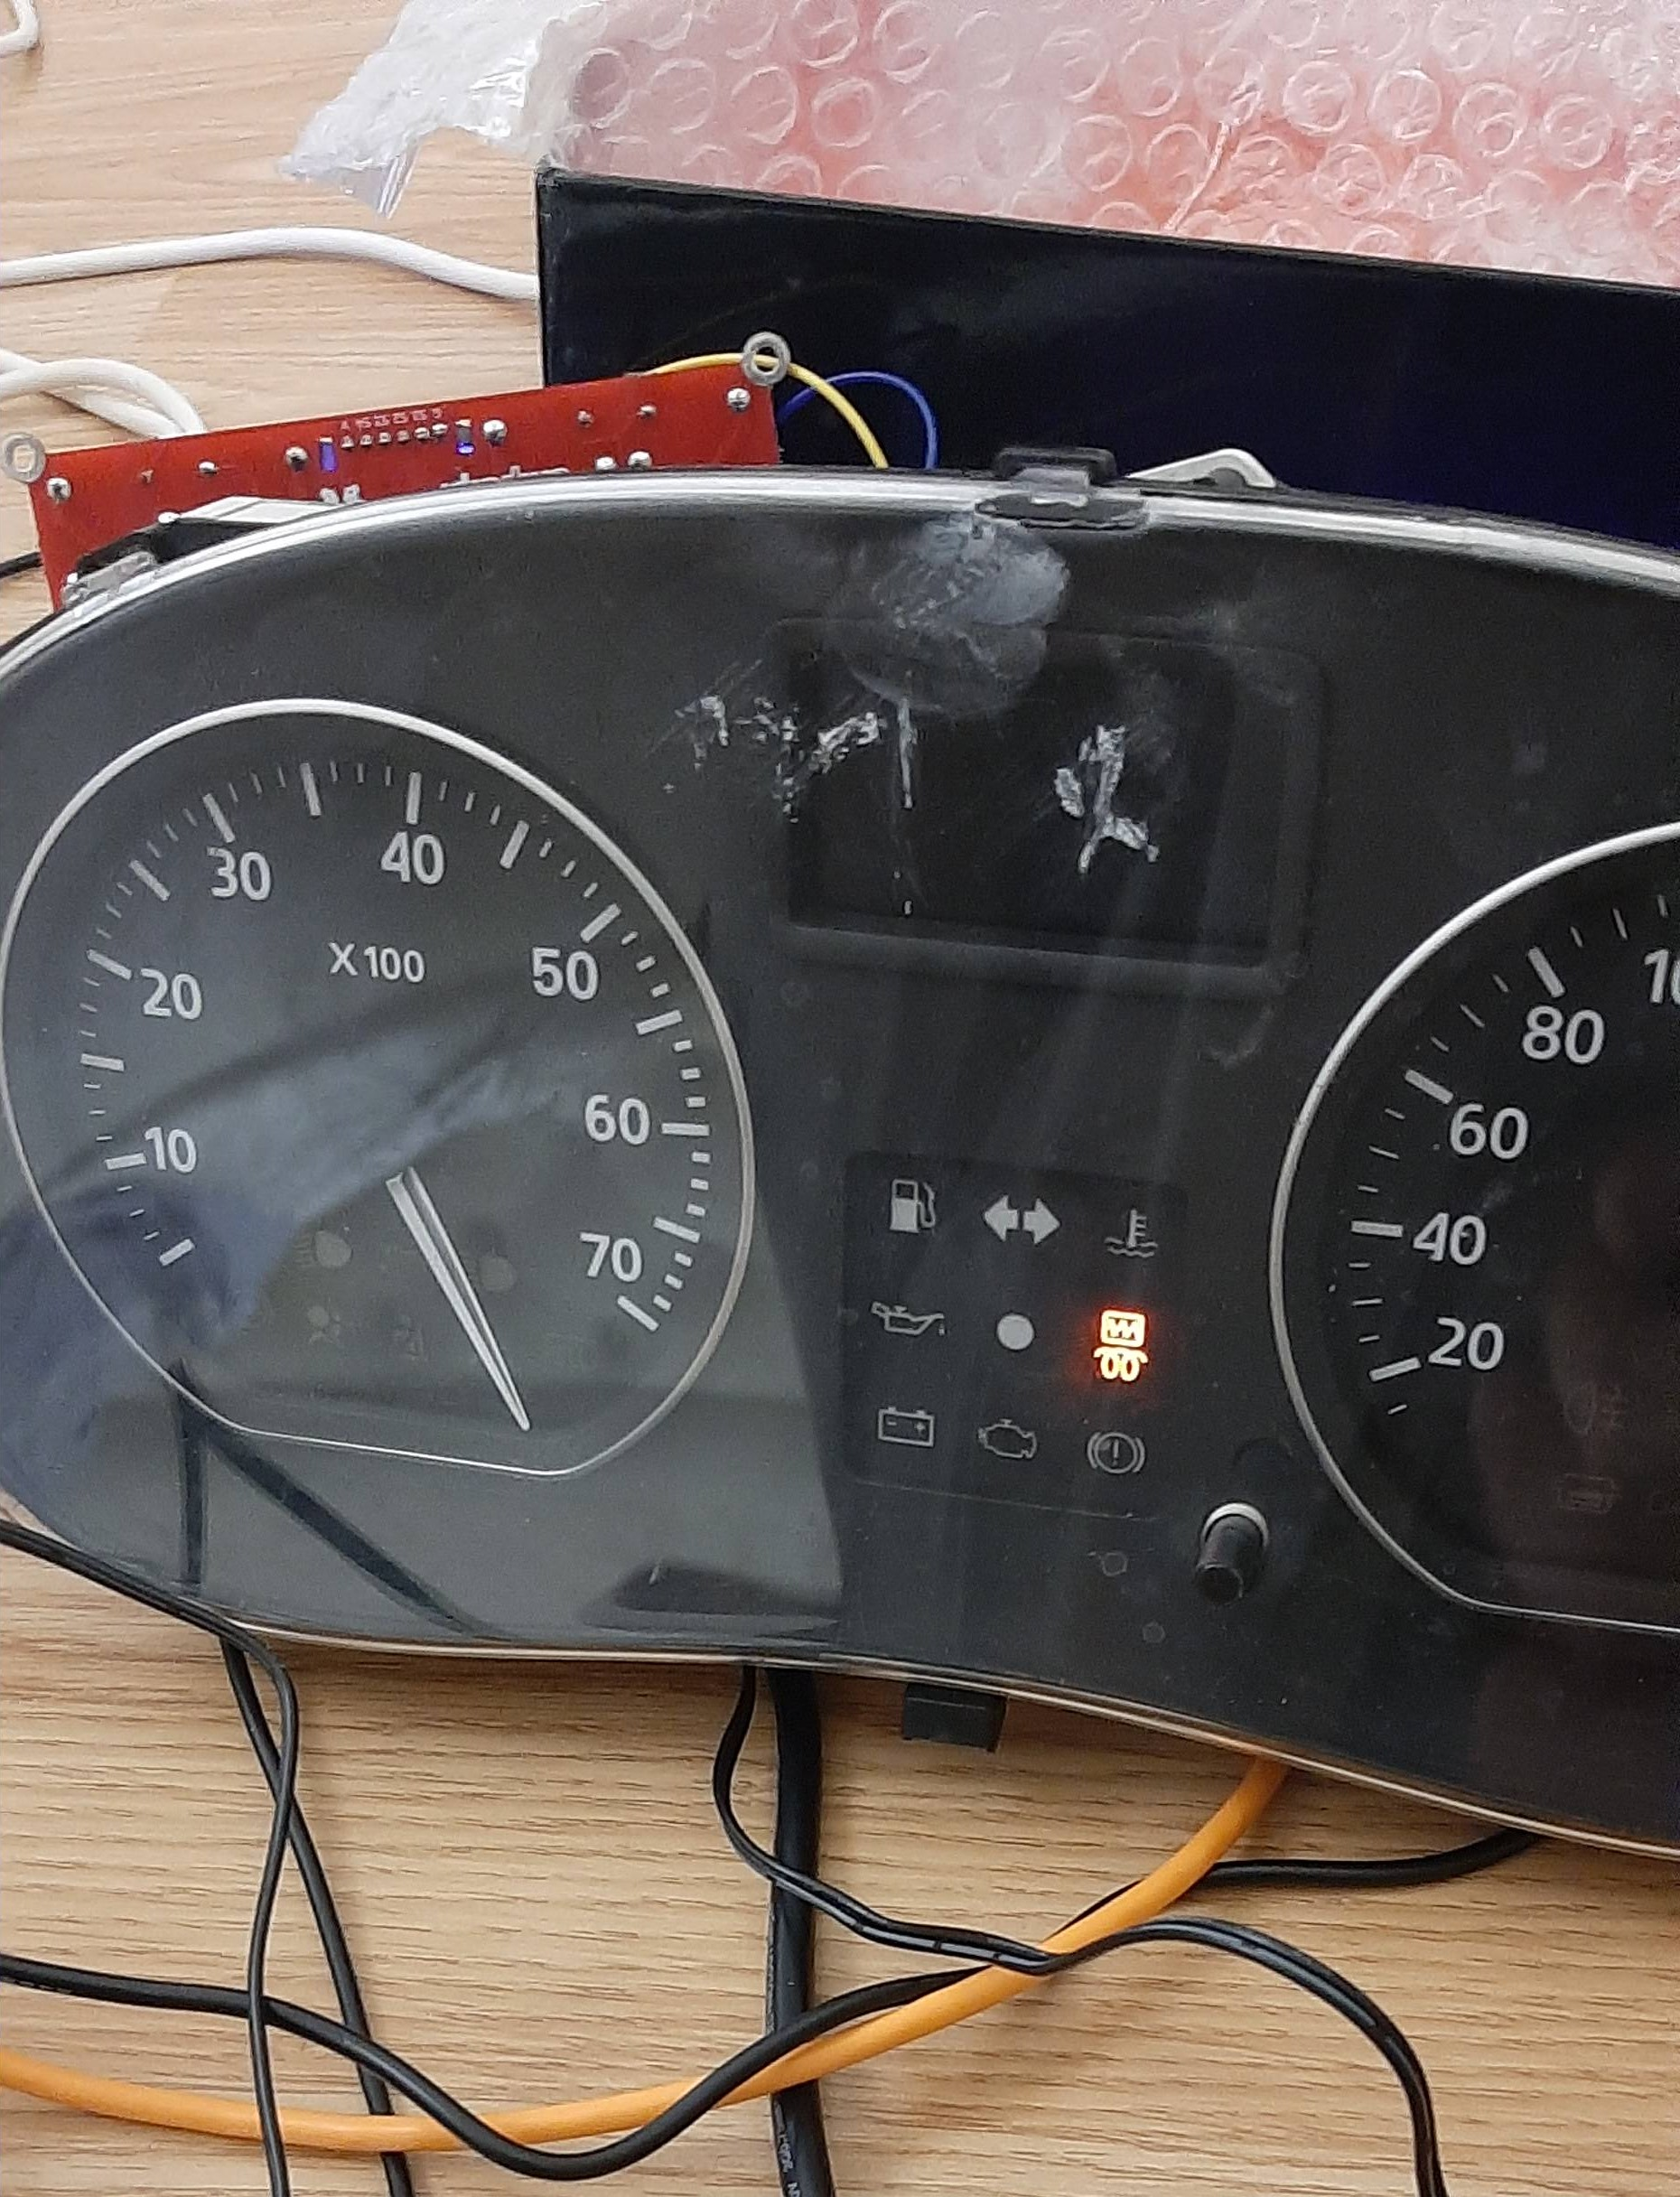diesel23: (1091, 1304, 1151, 1385)
